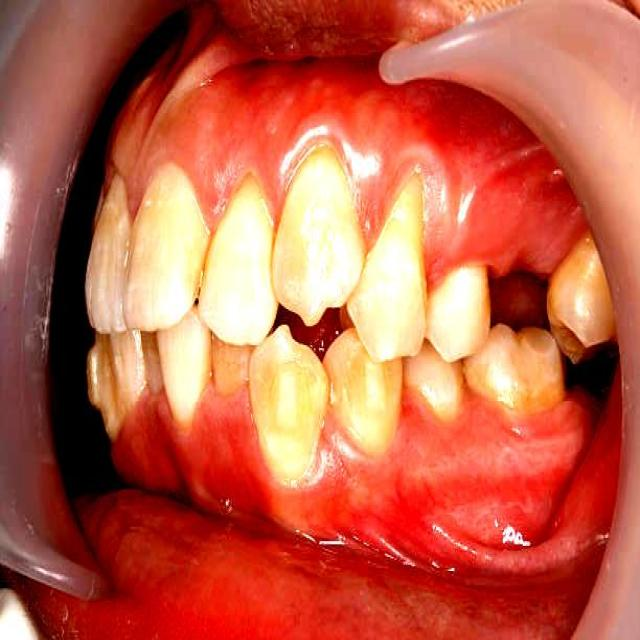swelling: (253, 124, 304, 233), (352, 158, 396, 269), (310, 407, 362, 475), (418, 231, 455, 309)
